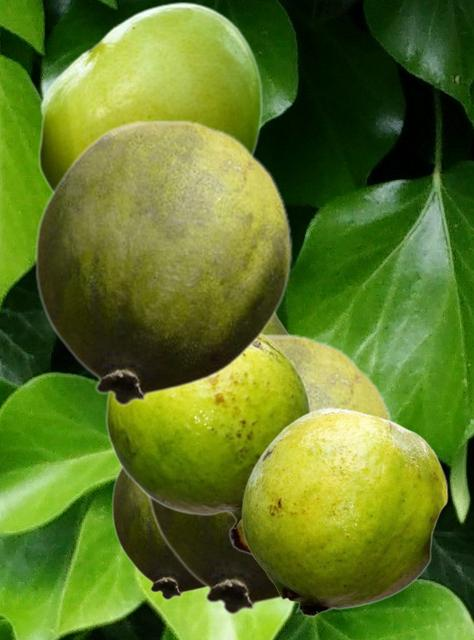guava: (34, 119, 292, 405), (145, 333, 395, 614), (105, 333, 311, 558), (241, 407, 447, 616), (37, 1, 262, 191), (111, 467, 206, 599)
